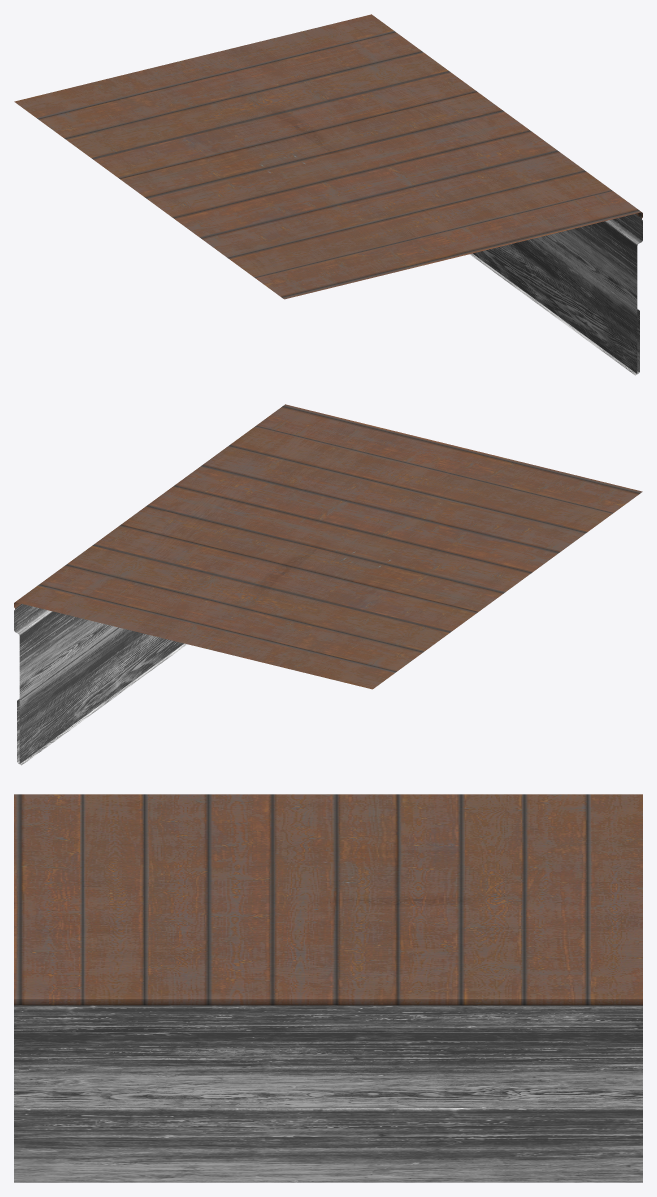
The model's file is SM_Base_Side_B3_Splines_2.fbx.
3 renders of one model, top to bottom at view 1: azimuth 30°, elevation 25°; view 2: azimuth 150°, elevation 25°; view 3: azimuth 270°, elevation 25°, orthographic. The views are drawn at different scales.
Visible parts, largest first — view 1: SM_Base_Side_B3_Splines_2; view 2: SM_Base_Side_B3_Splines_2; view 3: SM_Base_Side_B3_Splines_2.
Boxes of the visible parts, x1,y1,x2,y2 form: SM_Base_Side_B3_Splines_2: (14,14,642,375); SM_Base_Side_B3_Splines_2: (14,404,642,765); SM_Base_Side_B3_Splines_2: (14,794,642,1182).
Bounding box in the file's own units: 275 × 359 × 118.
3 materials, 3 textured.
